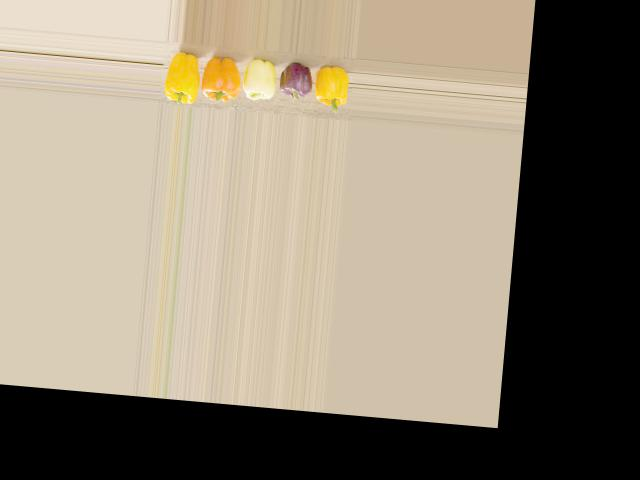bell_pepper: (315, 57, 354, 115)
